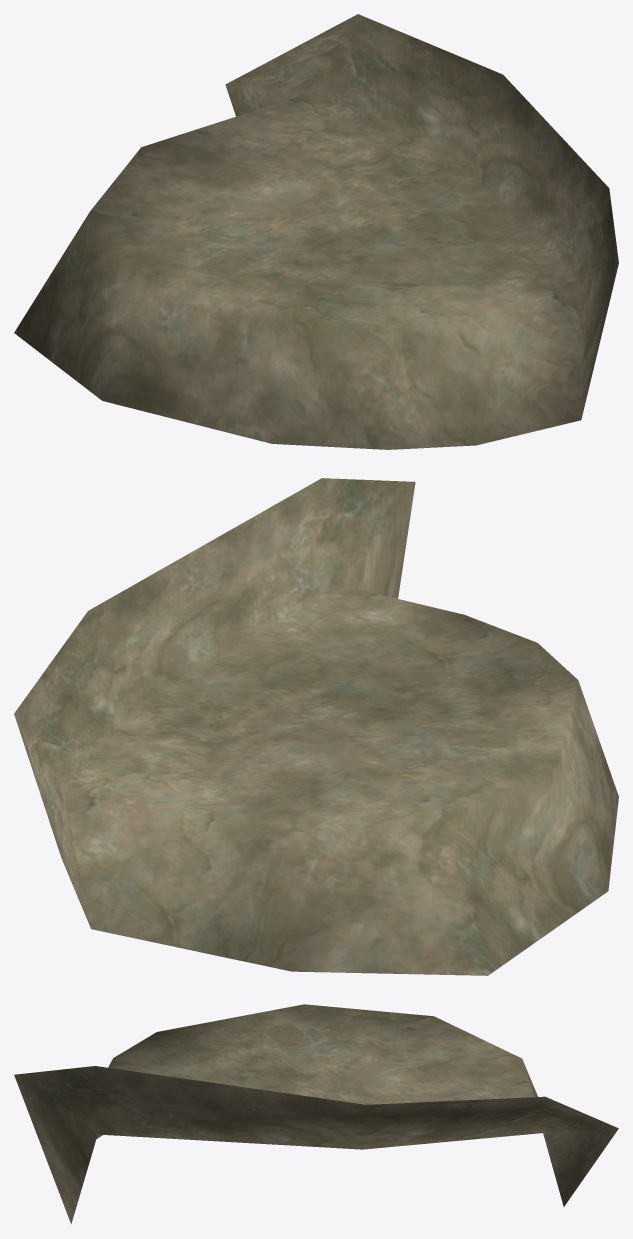
Rendered from EKH_GROTTO_PS_GR_LINE36.fbx.
3 views of the same model, one above another, from view 1: azimuth 30°, elevation 25°; view 2: azimuth 150°, elevation 25°; view 3: azimuth 270°, elevation 25° (orthographic). The views are drawn at different scales.
Parts seen in each view (by area): view 1: EKH_GROTTO_PS_GR_LINE36; view 2: EKH_GROTTO_PS_GR_LINE36; view 3: EKH_GROTTO_PS_GR_LINE36.
Part boxes in pixels (left/top/right/bottom): EKH_GROTTO_PS_GR_LINE36: left=14, top=14, right=618, bottom=449; EKH_GROTTO_PS_GR_LINE36: left=14, top=478, right=618, bottom=975; EKH_GROTTO_PS_GR_LINE36: left=14, top=1004, right=618, bottom=1223.
Size of the model in its own units: 19073 by 8776 by 26978.
1 material, 1 textured.
